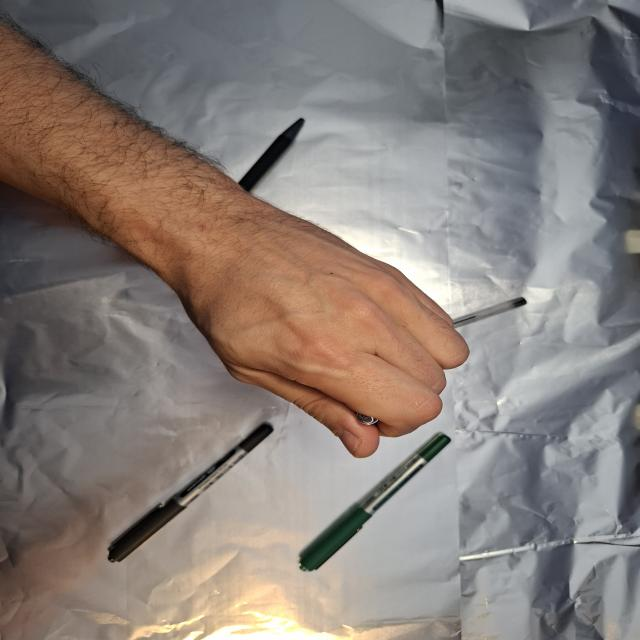glove_off: (159, 210, 473, 459)
